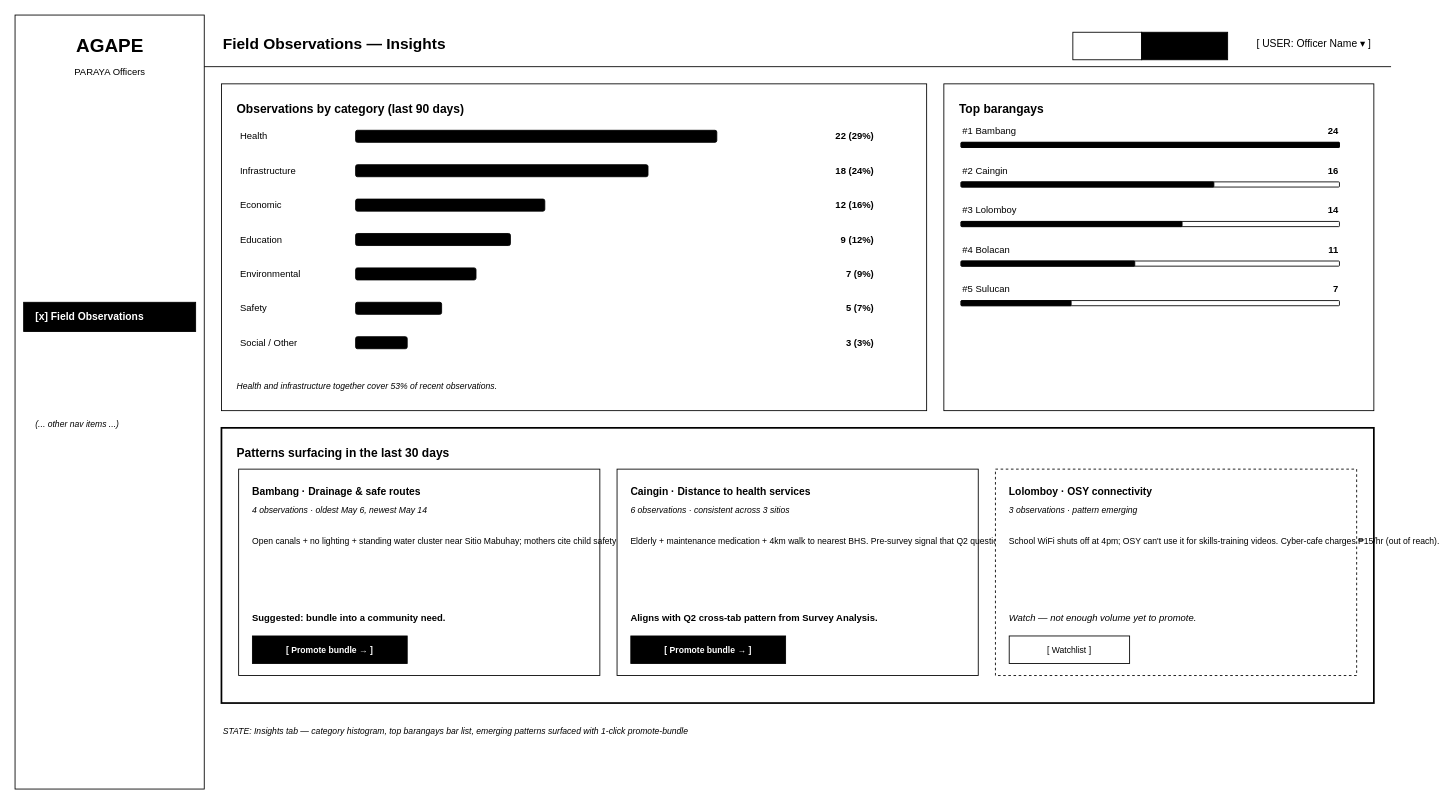
Image size: 1455x804. Some labels were removed from this diagram. The shapes that lost their labels are listed below. From the top down, each one's box as (x1, y1, x2, y2) in pixels, then its label:
(1072, 31, 1142, 60): [ List ]
(1141, 31, 1228, 60): [ Insights ]
